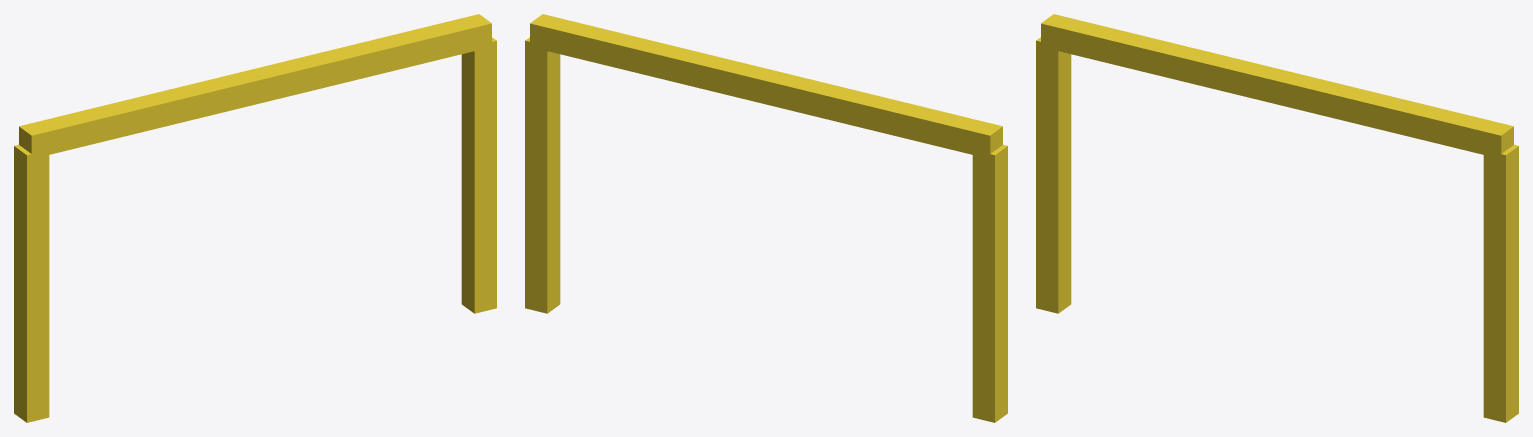
The model's file is stagefinish.glb.
The picture shows the model from 3 angles, left to right: view 1: azimuth 30°, elevation 25°; view 2: azimuth 150°, elevation 25°; view 3: azimuth 330°, elevation 25°; orthographic projection.
Visible parts, largest first — view 1: Post (×2), Crossbar; view 2: Post (×2), Crossbar; view 3: Post (×2), Crossbar.
Boxes of the visible parts, x1=… form: Post (×2): x1=14, y1=37, x2=496, y2=422; Crossbar: x1=19, y1=14, x2=491, y2=158; Post (×2): x1=525, y1=37, x2=1007, y2=422; Crossbar: x1=530, y1=14, x2=1002, y2=157; Post (×2): x1=1036, y1=37, x2=1518, y2=422; Crossbar: x1=1041, y1=14, x2=1513, y2=157.
Size of the model in its own units: 7.35 by 4.27 by 0.35.
